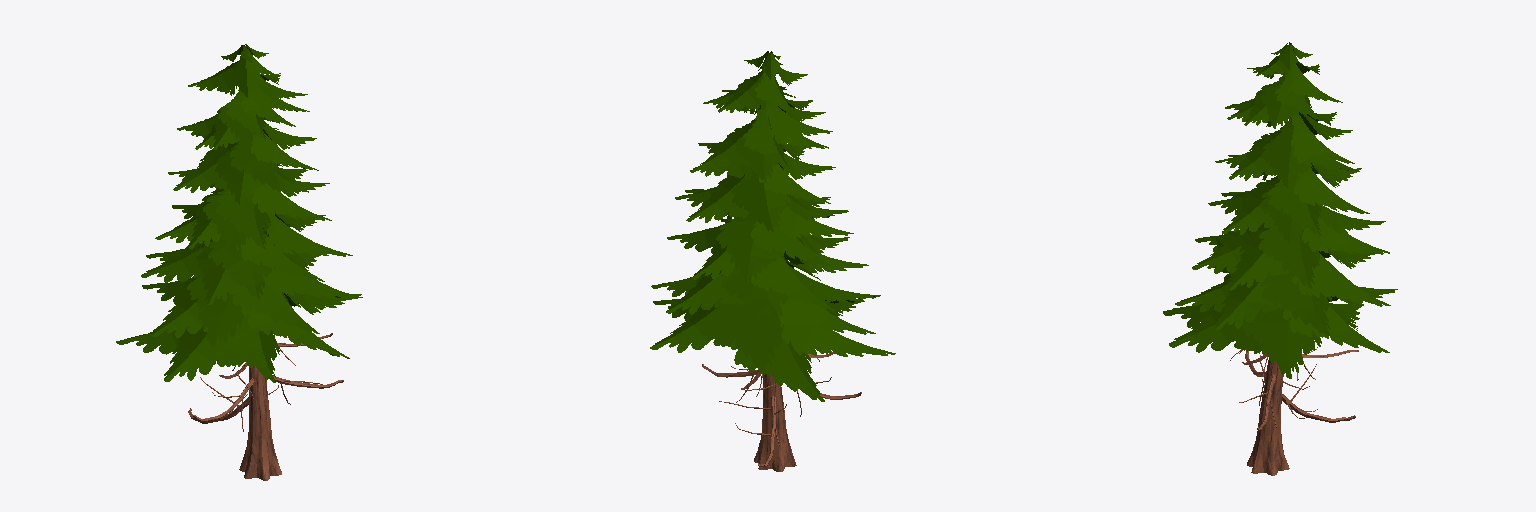
3 views of the same model, side by side, from view 1: azimuth 30°, elevation 25°; view 2: azimuth 150°, elevation 25°; view 3: azimuth 270°, elevation 25° (orthographic).
Visible parts, largest first — view 1: Pine_4_2, Pine_4_1; view 2: Pine_4_2, Pine_4_1; view 3: Pine_4_2, Pine_4_1.
Part boxes in pixels (left/top/right/bottom): Pine_4_2: left=116, top=44, right=362, bottom=382; Pine_4_1: left=188, top=333, right=343, bottom=480; Pine_4_2: left=650, top=51, right=895, bottom=401; Pine_4_1: left=702, top=99, right=861, bottom=471; Pine_4_2: left=1163, top=42, right=1397, bottom=378; Pine_4_1: left=1230, top=118, right=1358, bottom=475.
Size of the model in its own units: 5.8 by 10.24 by 5.37.
Materials: 2 (2 with a texture image).